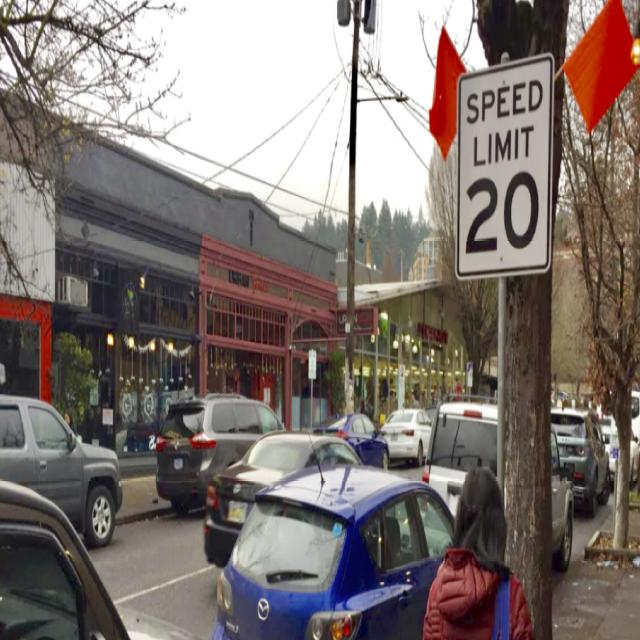speedLimit20: (458, 68, 548, 275)
